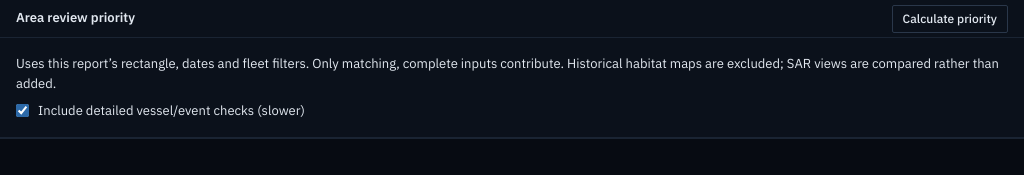
Test: cancels a pending job and ignores stale results
Later steps or results of the test are not shown.
Step 1. Click the button "Calculate priority" → (950, 18), box [892,4,1008,32]
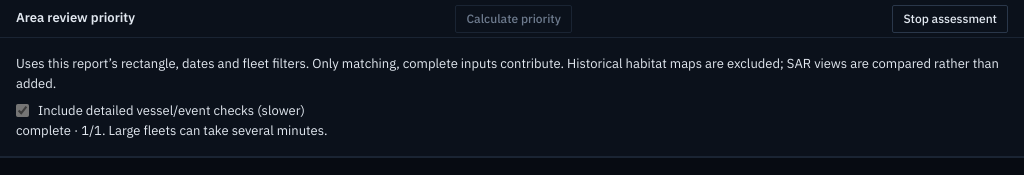
Expected: the button "Stop assessment" is shown, [892,4,1008,32]
